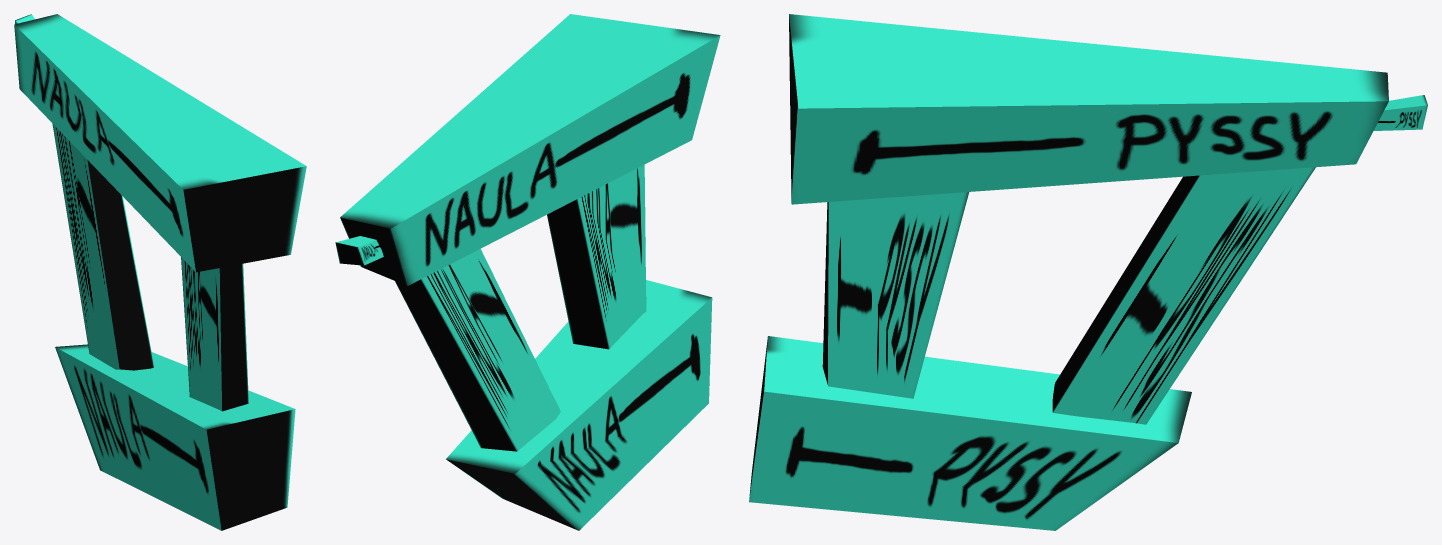
The model's file is Juuna.fbx.
The picture shows the model from 3 angles, left to right: view 1: azimuth 30°, elevation 25°; view 2: azimuth 150°, elevation 25°; view 3: azimuth 270°, elevation 25°; orthographic projection. The views are drawn at different scales.
Visible parts, largest first — view 1: Cube; view 2: Cube; view 3: Cube.
Boxes of the visible parts, x1,y1,x2,y2 form: Cube: (14, 14, 306, 530); Cube: (335, 14, 720, 530); Cube: (749, 14, 1427, 530).
Bounding box in the file's own units: 121 × 328 × 426.
1 material, 1 textured.
